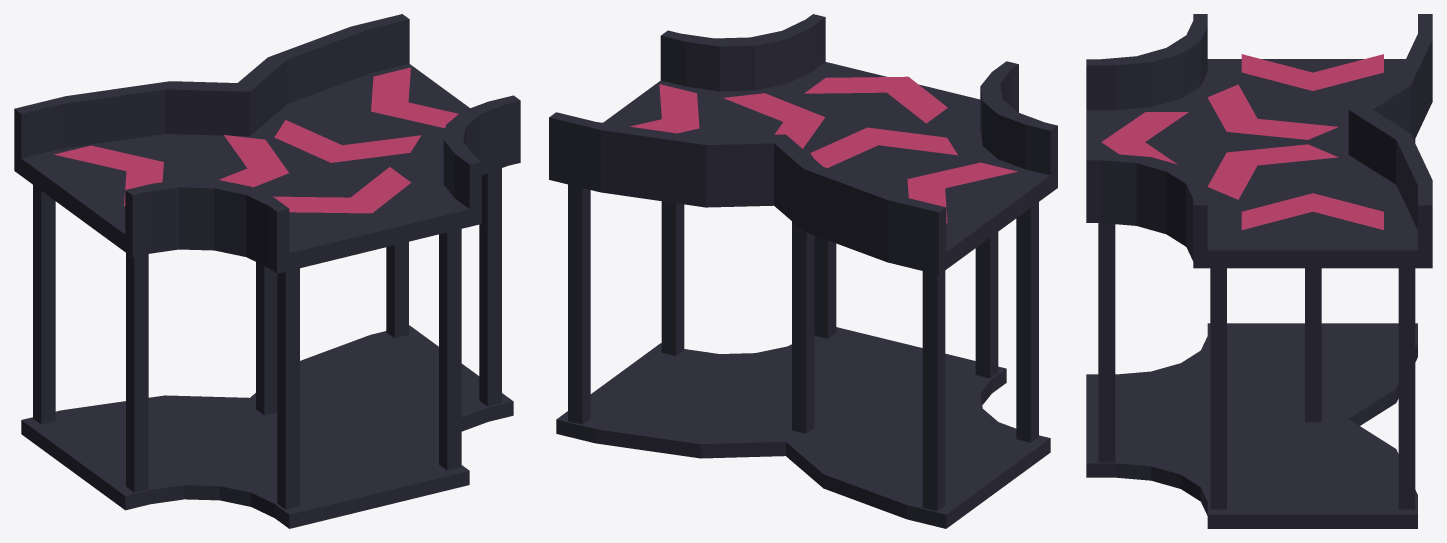
Rendered from conv-merge.glb.
3 renders of one model, left to right at view 1: azimuth 30°, elevation 25°; view 2: azimuth 150°, elevation 25°; view 3: azimuth 270°, elevation 25°, orthographic.
Parts seen in each view (by area): view 1: conv-merge; view 2: conv-merge; view 3: conv-merge.
Boxes of the visible parts, x1=… form: conv-merge: x1=14, y1=14, x2=520, y2=528; conv-merge: x1=549, y1=14, x2=1057, y2=528; conv-merge: x1=1086, y1=14, x2=1432, y2=528.
Size of the model in its own units: 1 by 0.7882 by 0.764.
Materials: 1 (1 with a texture image).
